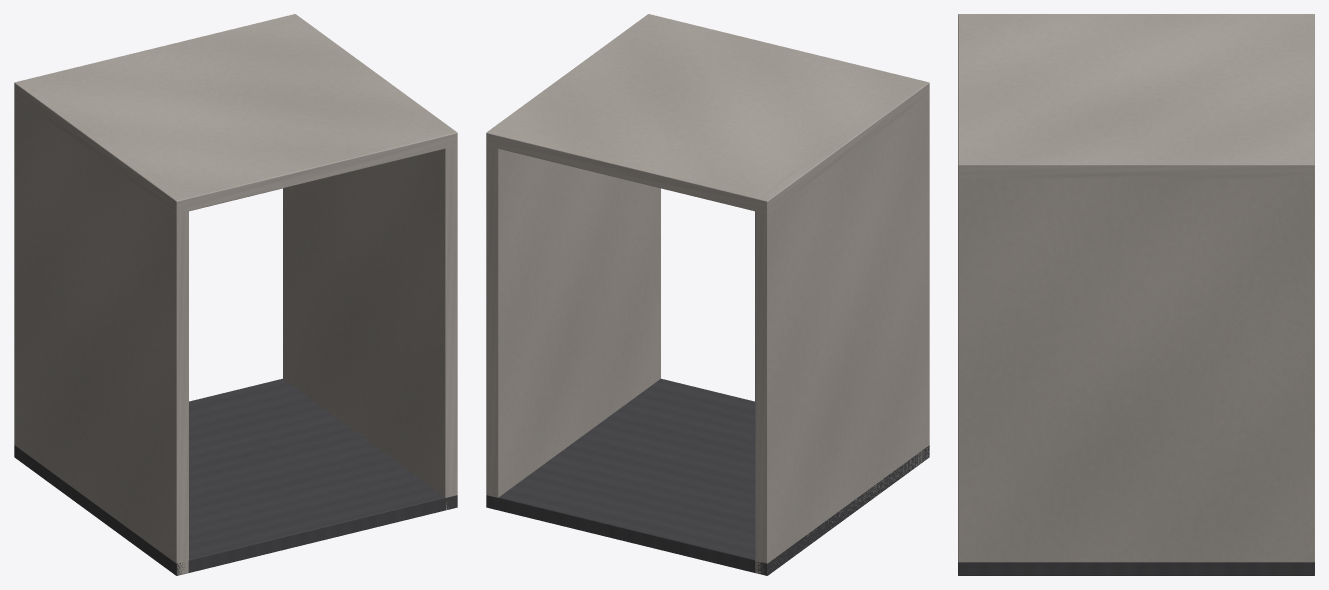
File: cleanroom_airlock.glb
The picture shows the model from 3 angles, left to right: view 1: azimuth 30°, elevation 25°; view 2: azimuth 150°, elevation 25°; view 3: azimuth 270°, elevation 25°; orthographic projection. The views are drawn at different scales.
Parts seen in each view (by area): view 1: side_wall.002, ceiling.001, side_wall.003, floor.001; view 2: side_wall.002, ceiling.001, side_wall.003, floor.001; view 3: side_wall.003, ceiling.001, floor.001.
Boxes of the visible parts, bbox=[...] form: side_wall.002: bbox=[14, 95, 188, 575]; ceiling.001: bbox=[14, 14, 457, 213]; side_wall.003: bbox=[283, 145, 457, 509]; floor.001: bbox=[14, 378, 457, 575]; side_wall.002: bbox=[755, 95, 929, 575]; ceiling.001: bbox=[486, 14, 929, 213]; side_wall.003: bbox=[486, 145, 660, 497]; floor.001: bbox=[486, 378, 929, 575]; side_wall.003: bbox=[958, 159, 1314, 562]; ceiling.001: bbox=[958, 14, 1314, 178]; floor.001: bbox=[958, 562, 1314, 575].
Size of the model in its own units: 2.2 by 2.8 by 2.2.
Materials: 3 (2 with a texture image).
